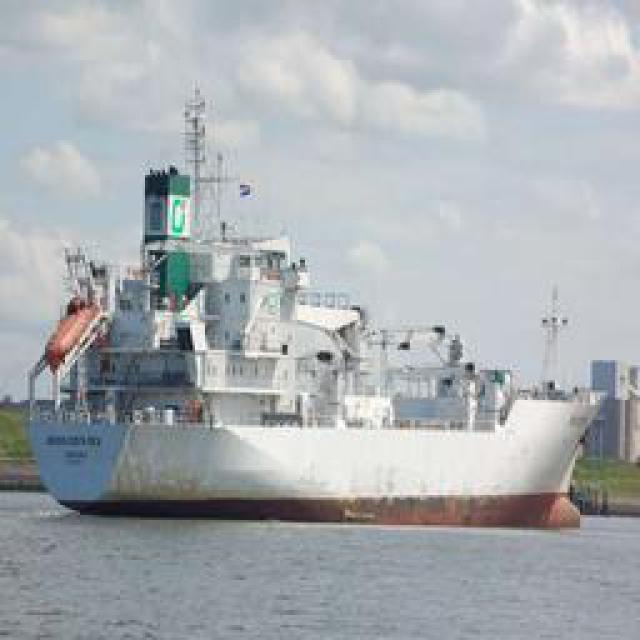Ship: (21, 136, 604, 519)
